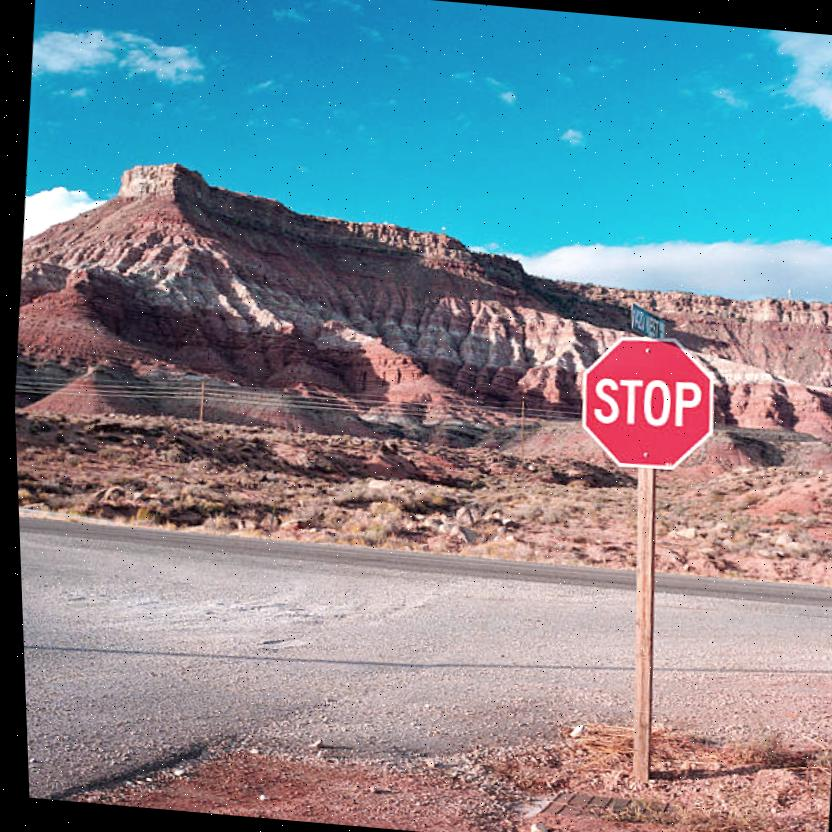Pole: (607, 466, 673, 776)
Sign: (573, 336, 718, 474)
